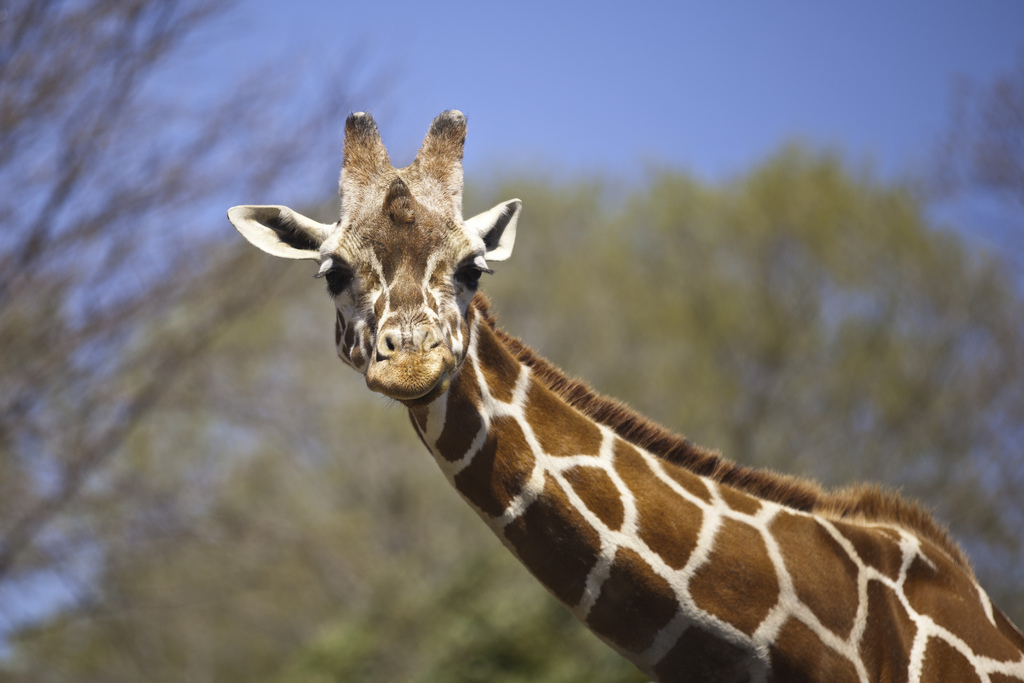giraffe: (241, 105, 975, 667)
